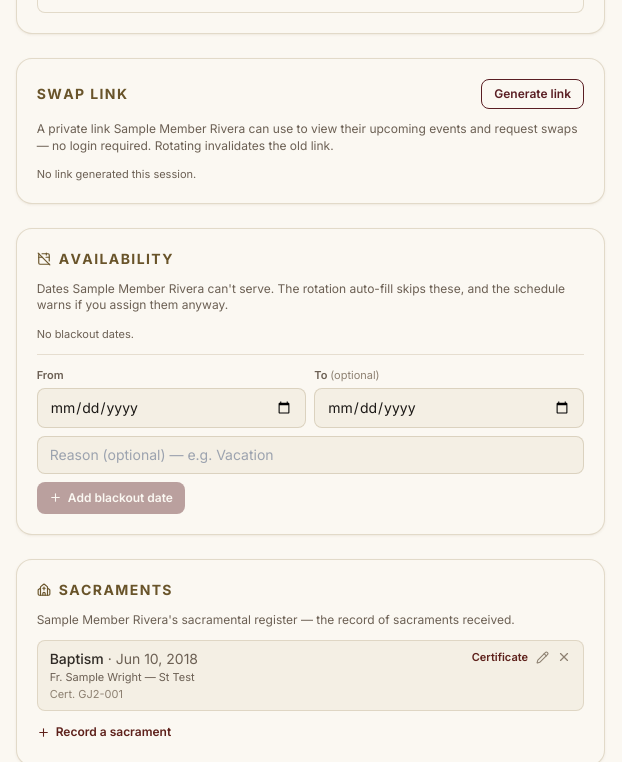
Test: GJ2-L1-03 certificate-path chrome › EN write-form: subtitle + Certificate # + Baptism — no hard-EN leftover keys
(page scrolled)
Expected: the text "Baptism" is shown, [50,650,104,667]
Click the button "Record a sacrament": (104, 732) [37,723,171,741]
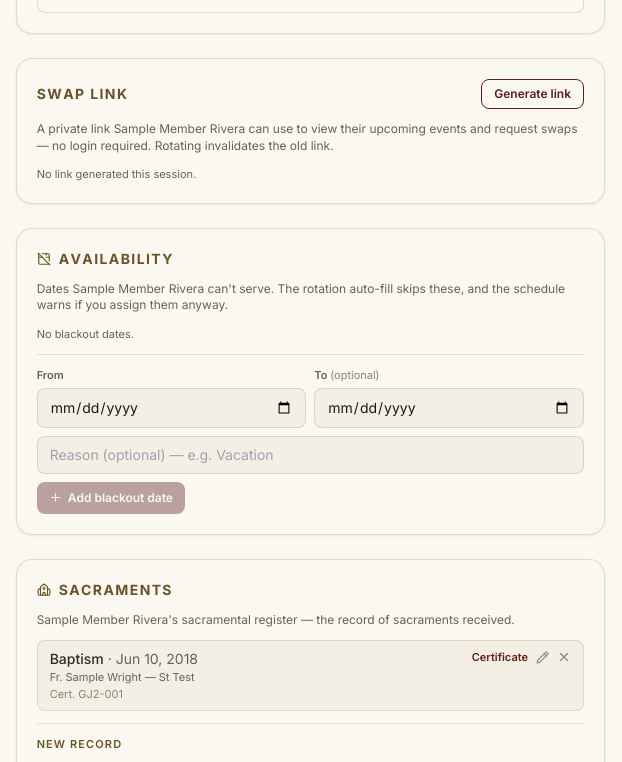
Now the text "New record" is shown, box [37,737,122,751]
